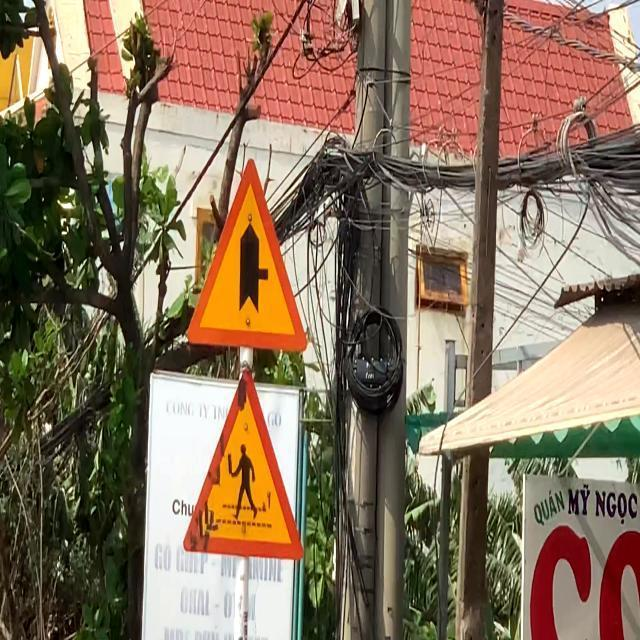207-giao-nhau-voi-duong-khong-uu-tien: (184, 159, 308, 353)
224-duong-nguoi-di-bo-cat-ngang: (178, 370, 306, 562)
